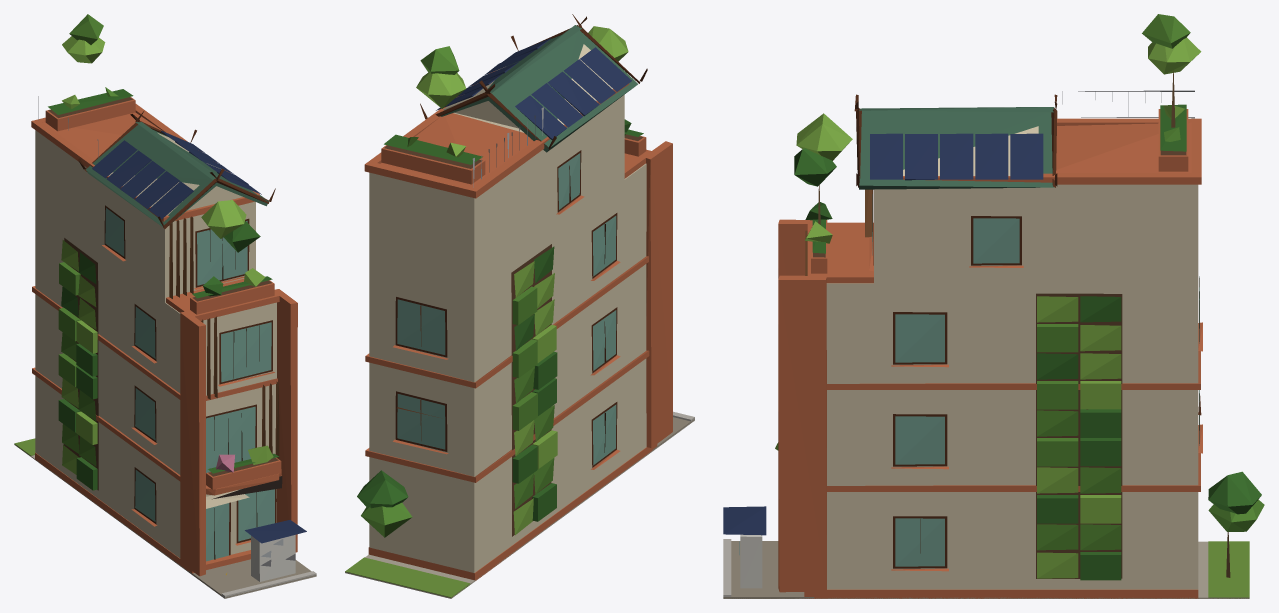
The model's file is bay2_one.glb.
The picture shows the model from 3 angles, left to right: view 1: azimuth 30°, elevation 25°; view 2: azimuth 150°, elevation 25°; view 3: azimuth 270°, elevation 25°; orthographic projection. The views are drawn at different scales.
Parts seen in each view (by area): view 1: body; view 2: body; view 3: body.
Boxes of the visible parts, <box> form: body: <box>14,14,316,598</box>; body: <box>345,14,694,598</box>; body: <box>723,14,1264,598</box>.
Bounding box in the file's own units: 5.19 × 18.43 × 16.36.
